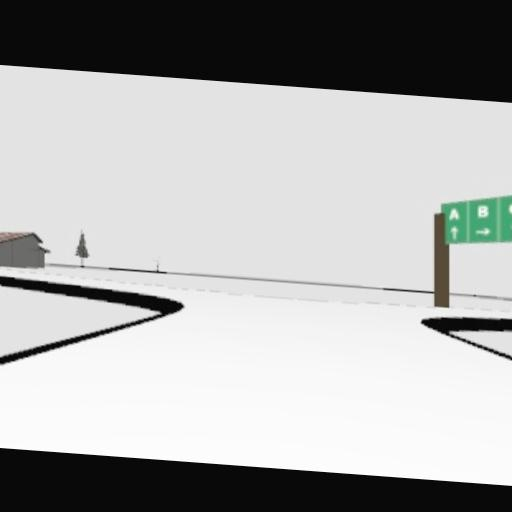A: (448, 207, 460, 221)
B: (476, 204, 490, 218)
C: (508, 199, 512, 212)
Right: (476, 227, 490, 234)
Straight: (450, 226, 456, 239), (510, 220, 512, 235)
